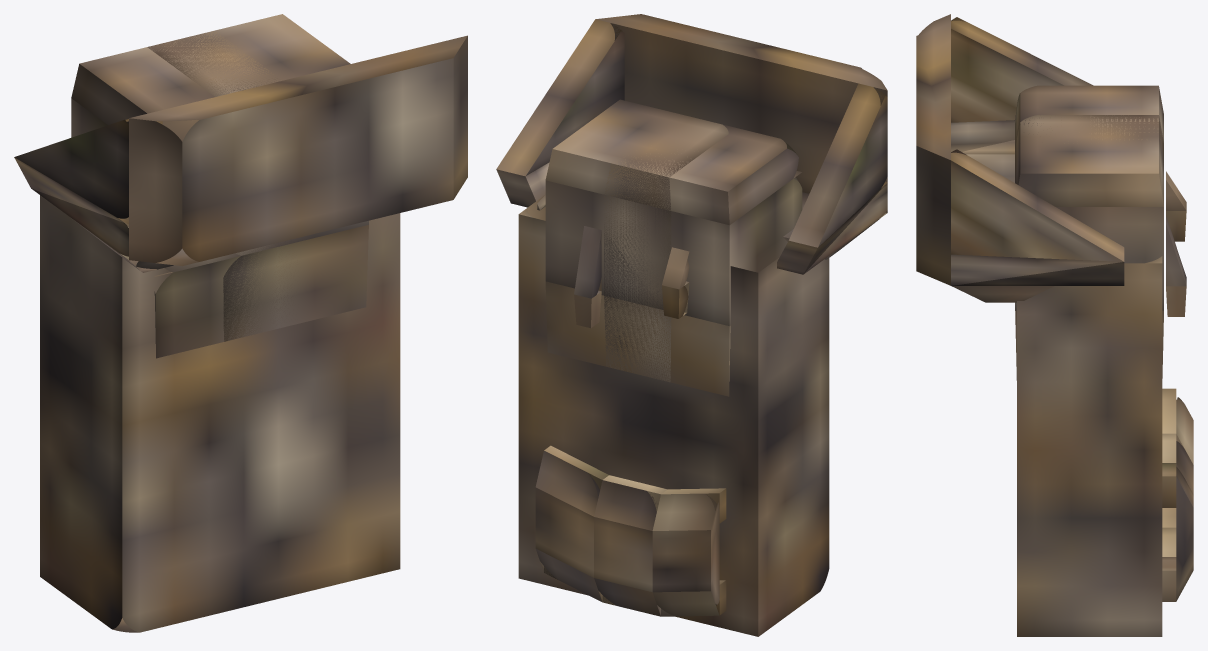
The model's file is hoodie7.obj.
3 views of the same model, side by side, from view 1: azimuth 30°, elevation 25°; view 2: azimuth 150°, elevation 25°; view 3: azimuth 270°, elevation 25° (orthographic). The views are drawn at different scales.
Visible parts, largest first — view 1: bodyModel0, bodyModel17, leftArmModel1, leftArmModel2, rightArmModel2, rightArmModel1, bodyModel16, bodyModel19, rightArmModel0; view 2: bodyModel0, bodyModel17, rightArmModel0, leftArmModel2, leftArmModel0, rightArmModel2, bodyModel20, bodyModel16, rightArmModel1, bodyModel3, leftArmModel1, bodyModel4 (+9 smaller); view 3: bodyModel0, leftArmModel2, bodyModel20, bodyModel17, bodyModel16, bodyModel21, rightArmModel2, leftArmModel0, bodyModel19, bodyModel4, bodyModel18, bodyModel13 (+10 smaller).
Boxes of the visible parts, x1=… form: bodyModel0: x1=40, y1=195, x2=400, y2=632; bodyModel17: x1=129, y1=35, x2=467, y2=266; leftArmModel1: x1=223, y1=225, x2=368, y2=341; leftArmModel2: x1=147, y1=14, x2=350, y2=96; rightArmModel2: x1=71, y1=31, x2=277, y2=124; rightArmModel1: x1=154, y1=243, x2=298, y2=358; bodyModel16: x1=14, y1=119, x2=162, y2=224; bodyModel19: x1=14, y1=157, x2=128, y2=259; rightArmModel0: x1=71, y1=98, x2=293, y2=276; bodyModel0: x1=518, y1=195, x2=829, y2=636; bodyModel17: x1=596, y1=14, x2=887, y2=212; rightArmModel0: x1=604, y1=177, x2=802, y2=326; leftArmModel2: x1=545, y1=99, x2=728, y2=210; leftArmModel0: x1=545, y1=180, x2=671, y2=309; rightArmModel2: x1=605, y1=124, x2=801, y2=225; bodyModel20: x1=496, y1=19, x2=624, y2=176; bodyModel16: x1=789, y1=83, x2=887, y2=247; rightArmModel1: x1=604, y1=295, x2=730, y2=396; bodyModel3: x1=652, y1=493, x2=719, y2=616; leftArmModel1: x1=545, y1=281, x2=671, y2=382; bodyModel4: x1=535, y1=450, x2=602, y2=601; bodyModel0: x1=1017, y1=256, x2=1162, y2=636; leftArmModel2: x1=1015, y1=115, x2=1163, y2=206; bodyModel20: x1=951, y1=149, x2=1124, y2=261; bodyModel17: x1=916, y1=14, x2=950, y2=285; bodyModel16: x1=951, y1=17, x2=1093, y2=122; bodyModel21: x1=951, y1=254, x2=1124, y2=285; rightArmModel2: x1=1015, y1=85, x2=1163, y2=151; leftArmModel0: x1=1015, y1=207, x2=1163, y2=310; bodyModel19: x1=951, y1=120, x2=1014, y2=154; bodyModel4: x1=1176, y1=467, x2=1193, y2=601; bodyModel18: x1=951, y1=154, x2=1054, y2=302; bodyModel13: x1=1166, y1=216, x2=1186, y2=286.
Bounding box in the file's own units: 11 × 15.6 × 8.
